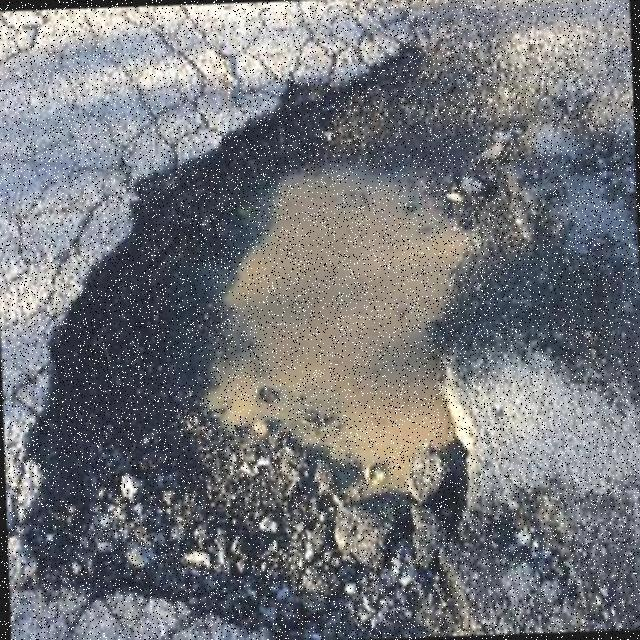Pothole: (16, 43, 560, 640)
